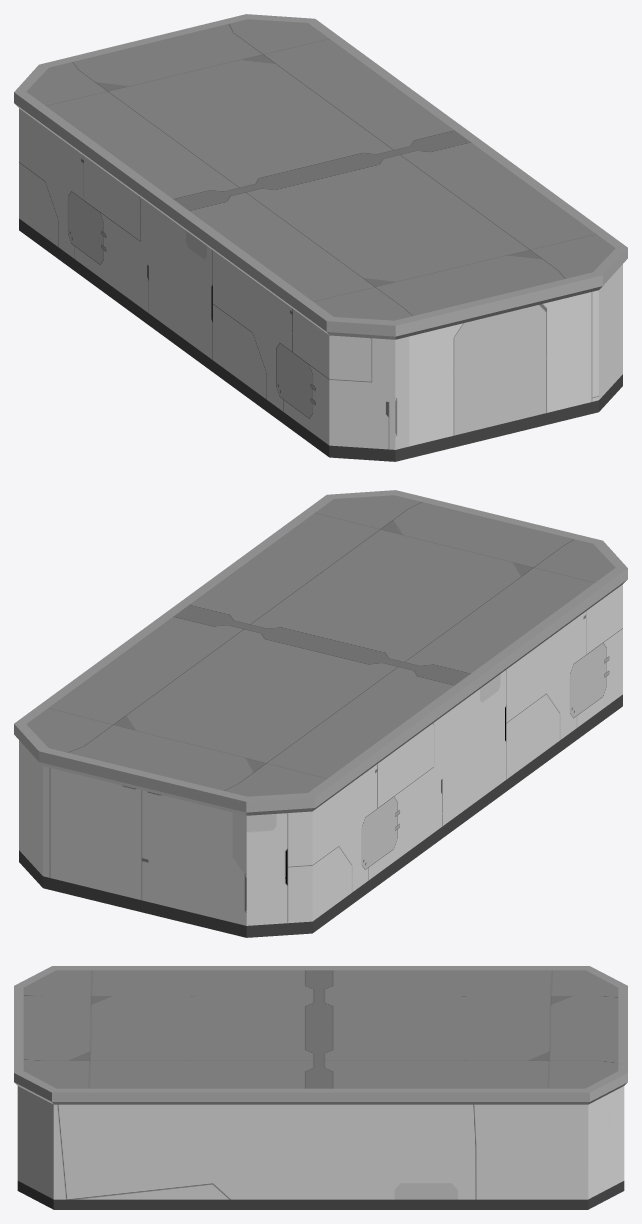
File: SM_Platform_4.fbx
The picture shows the model from 3 angles, top to bottom: view 1: azimuth 30°, elevation 25°; view 2: azimuth 150°, elevation 25°; view 3: azimuth 270°, elevation 25°; orthographic projection. The views are drawn at different scales.
Visible parts, largest first — view 1: SM_Platform_D; view 2: SM_Platform_D; view 3: SM_Platform_D.
Boxes of the visible parts, x1,y1,x2,y2 form: SM_Platform_D: (14, 14, 627, 461); SM_Platform_D: (14, 490, 627, 937); SM_Platform_D: (14, 966, 627, 1209).
Size of the model in its own units: 342 by 150 by 702.
